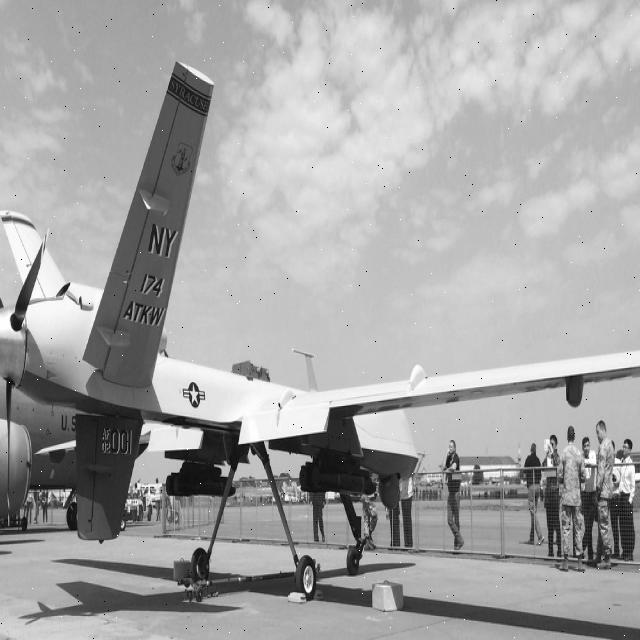MQ9: (1, 32, 640, 553)
